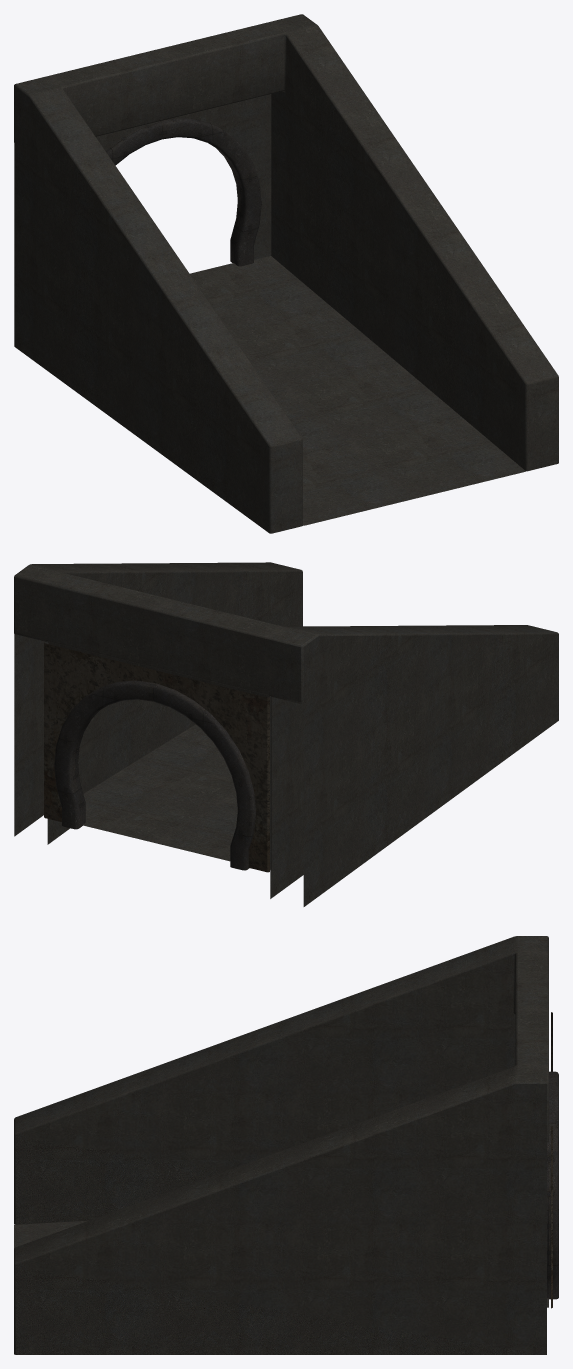
File: bunker_entrance_1.obj
The picture shows the model from 3 angles, top to bottom: view 1: azimuth 30°, elevation 25°; view 2: azimuth 150°, elevation 25°; view 3: azimuth 270°, elevation 25°; orthographic projection. The views are drawn at different scales.
Visible parts, largest first — view 1: bunker_entrance_1; view 2: bunker_entrance_1; view 3: bunker_entrance_1.
Boxes of the visible parts, bbox=[...] form: bunker_entrance_1: bbox=[14, 14, 558, 533]; bunker_entrance_1: bbox=[14, 562, 558, 906]; bunker_entrance_1: bbox=[14, 936, 558, 1354].
Bounding box in the file's own units: 5.2 × 4.5 × 8.15.
